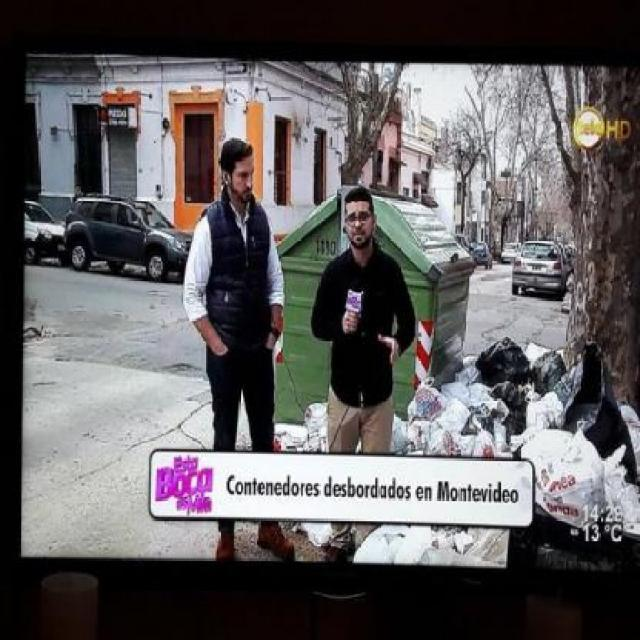garbage: (539, 345, 639, 551), (408, 366, 552, 460), (460, 357, 543, 457), (354, 529, 503, 574), (478, 329, 540, 366), (280, 406, 324, 454)
